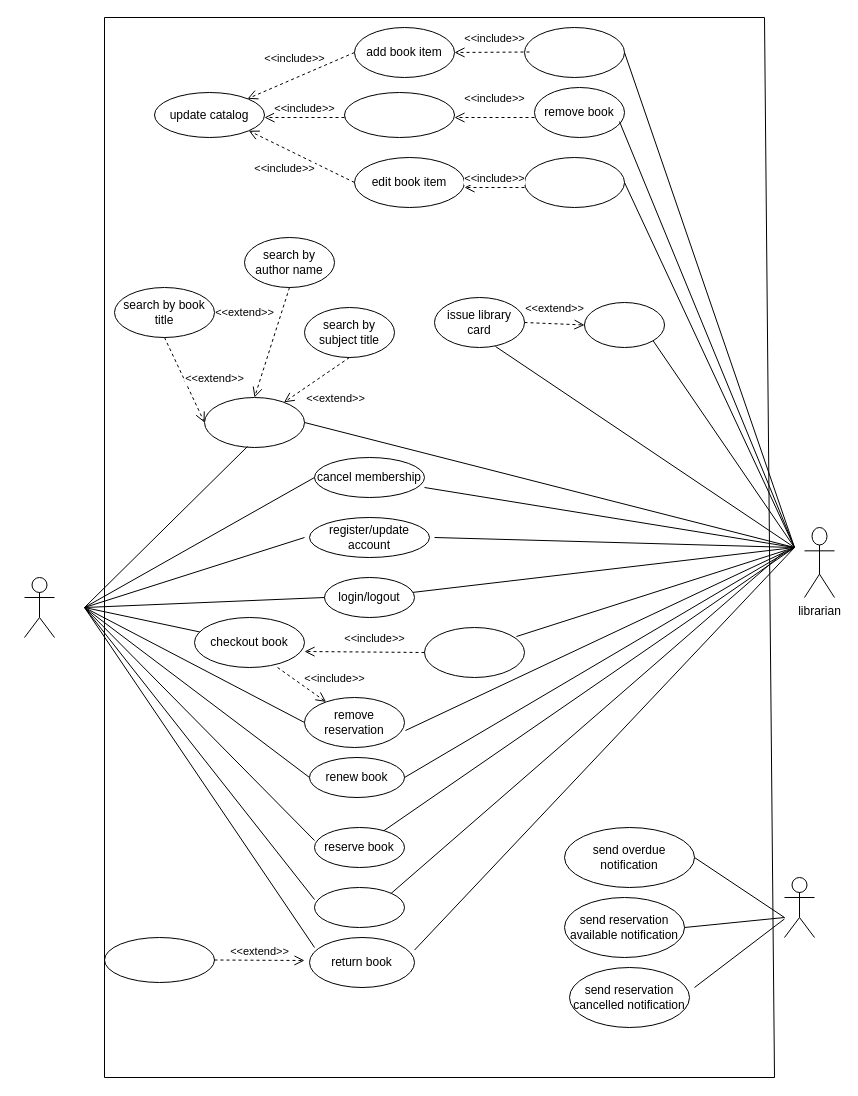
Some shapes in this 858 by 1096 pixel diagram are drawn without their labels. The centre of each missing label's shape, as x and y in pixels:
"add book" goes at point 574,52.
"edit book" goes at point 574,182.
"issue book" goes at point 474,652.
"member" goes at point 39,607.
"pay fine" goes at point 159,959.
"register new account" goes at point 624,325.
"remove book item" goes at point 399,115.
"search catalog" goes at point 254,422.
"system" goes at point 799,907.
"view account" goes at point 359,907.
